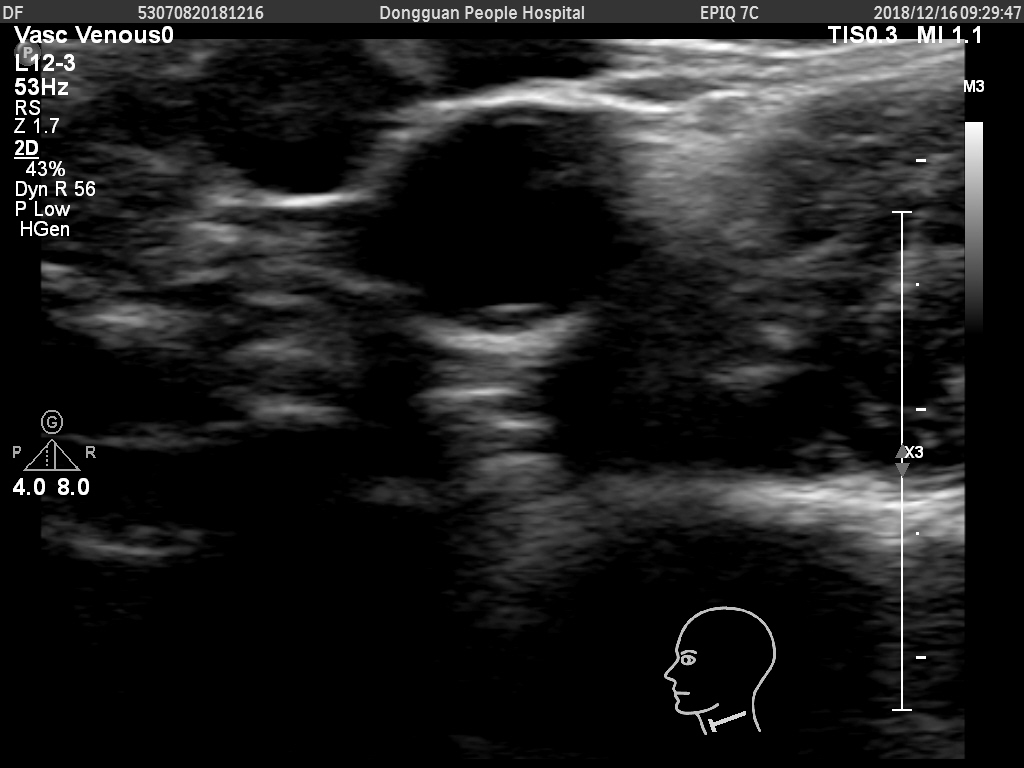sclerosis: (447, 295, 569, 344)
vessel: (347, 83, 672, 362)
